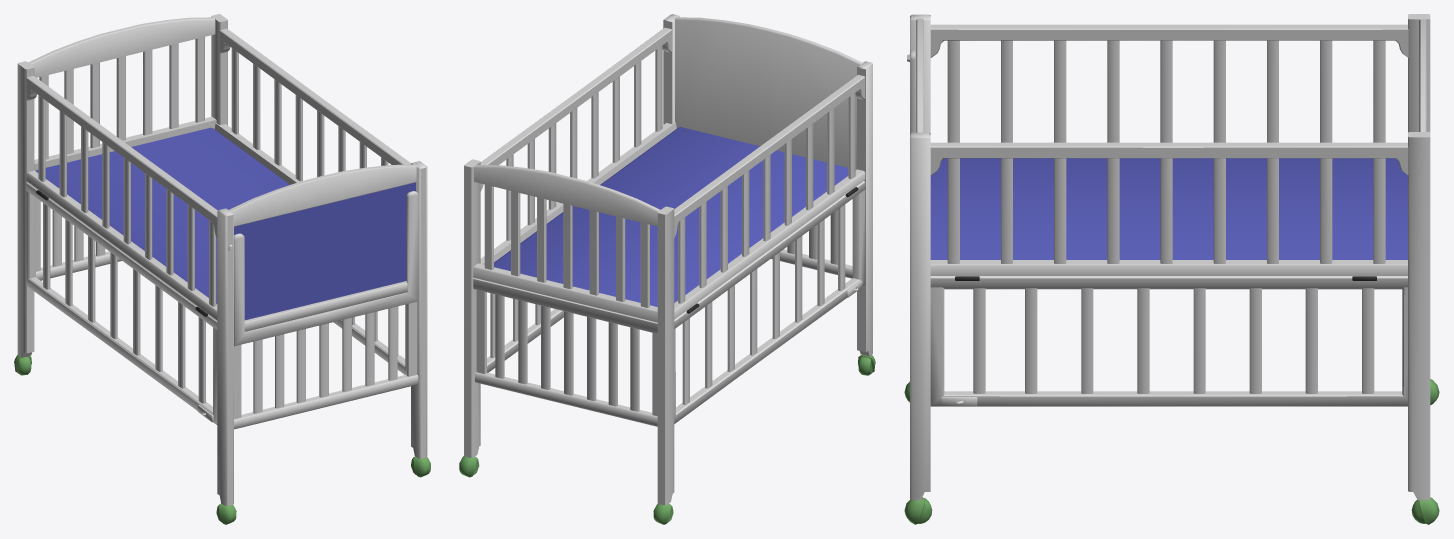
Rendered from LMY199A.FBX.
3 renders of one model, left to right at view 1: azimuth 30°, elevation 25°; view 2: azimuth 150°, elevation 25°; view 3: azimuth 270°, elevation 25°, orthographic. The views are drawn at different scales.
Parts seen in each view (by area): view 1: LMY199A; view 2: LMY199A; view 3: LMY199A.
Boxes of the visible parts, x1,y1,x2,y2 form: LMY199A: (14,14,430,524); LMY199A: (459,14,875,524); LMY199A: (904,14,1439,524).
Bounding box in the file's own units: 63.61 × 112 × 92.87.
